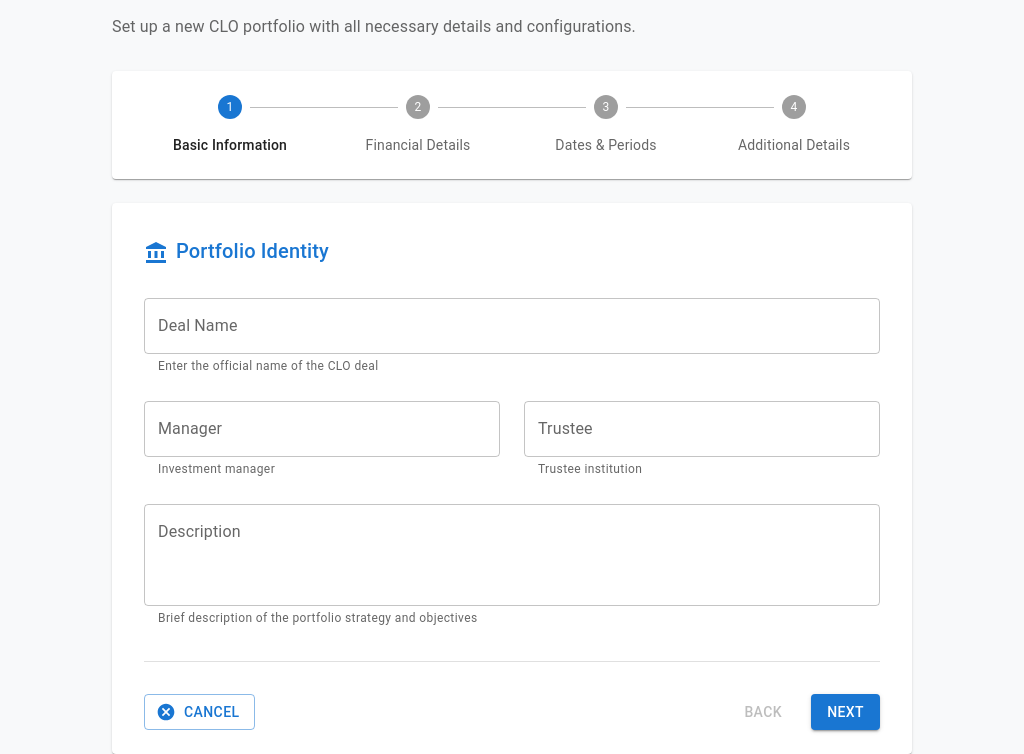
Test: PortfolioCreateForm › validates required fields in basic information step
(page scrolled)
Click the button "Next".
click(846, 712)  # box [811,694,880,730]
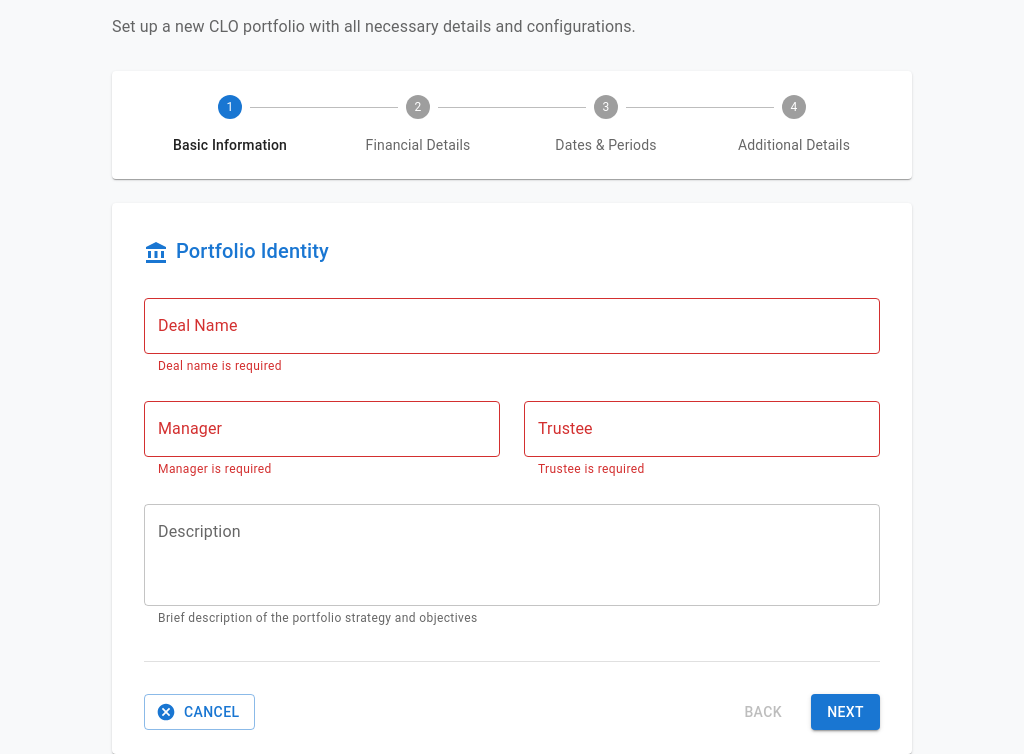
Expected: the text "Deal name is required" is shown, [158,359,282,373]
Expected: the text "Manager is required" is shown, [158,462,272,476]
Expected: the text "Trustee is required" is shown, [538,462,645,476]
